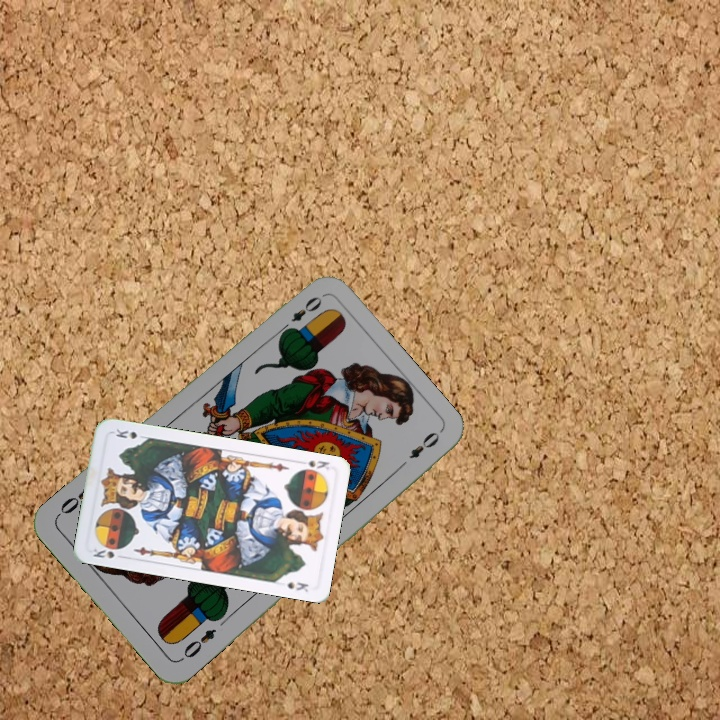EO: (276, 292, 325, 337), (176, 624, 219, 664)
SK: (294, 456, 332, 472), (89, 542, 117, 561)
